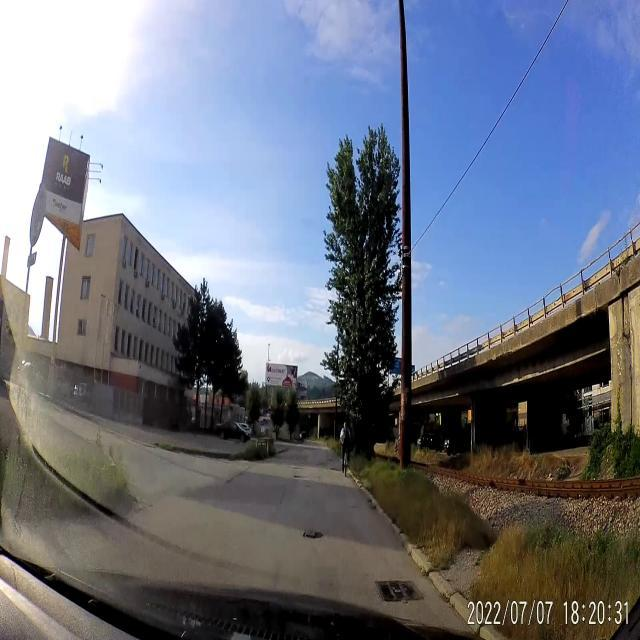Manhole: (372, 572, 423, 608)
Pothole: (294, 518, 326, 546), (291, 471, 308, 482)
